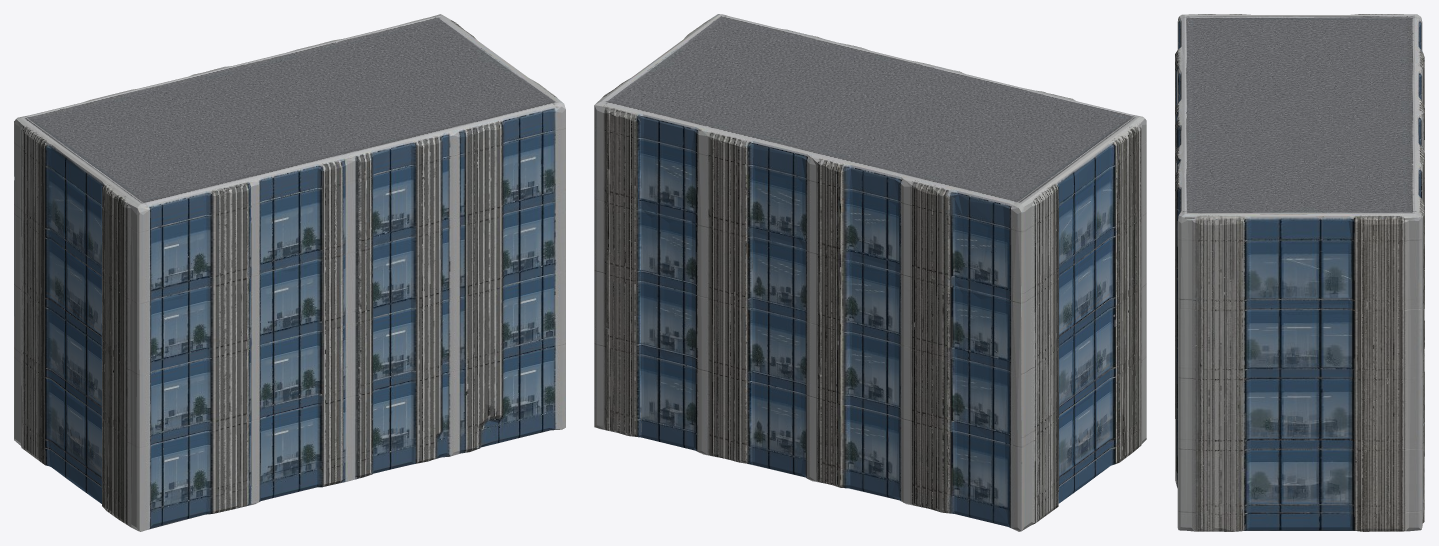
File: kit2-mid.glb
The picture shows the model from 3 angles, left to right: view 1: azimuth 30°, elevation 25°; view 2: azimuth 150°, elevation 25°; view 3: azimuth 270°, elevation 25°; orthographic projection. The views are drawn at different scales.
Parts seen in each view (by area): view 1: Mesh_0.001; view 2: Mesh_0.001; view 3: Mesh_0.001.
Part boxes in pixels (left/top/right/bottom): Mesh_0.001: left=14, top=14, right=565, bottom=531; Mesh_0.001: left=594, top=14, right=1146, bottom=531; Mesh_0.001: left=1175, top=14, right=1424, bottom=531.
Bounding box in the file's own units: 0.9987 × 0.7161 × 0.512.
Materials: 1 (1 with a texture image).
